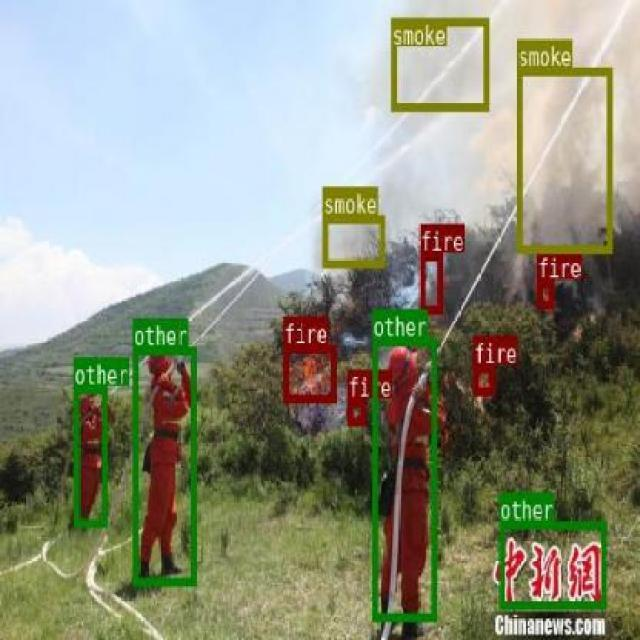Fire: (282, 343, 336, 400), (418, 252, 442, 312), (472, 364, 494, 393), (347, 397, 365, 425), (536, 278, 553, 307)
Smoke: (516, 67, 612, 253), (390, 17, 488, 111), (322, 212, 384, 266)
